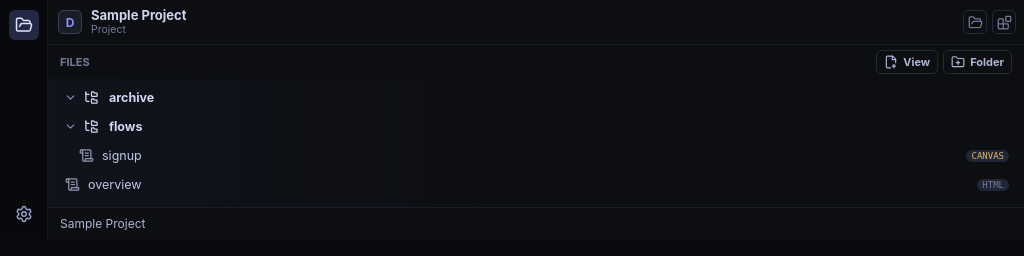
Test: Sidebar folder management › collapses and expands a folder
The image size is (1024, 256).
Click the button named "Collapse flows".
click(70, 126)  # box left=63, top=116, right=77, bottom=136
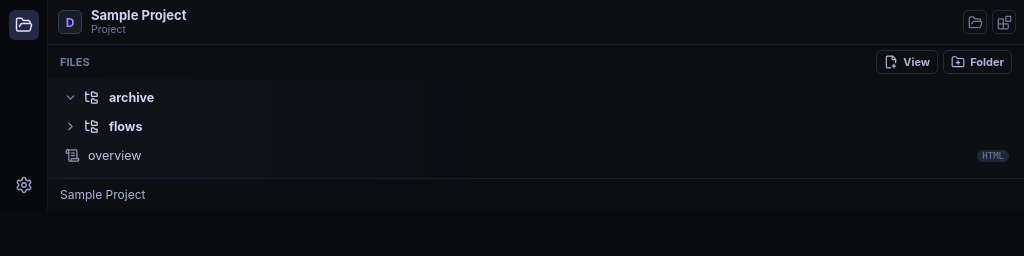
Now the text "signup" is gone
Click the button named "Expand flows".
click(70, 126)  # box left=63, top=116, right=77, bottom=136
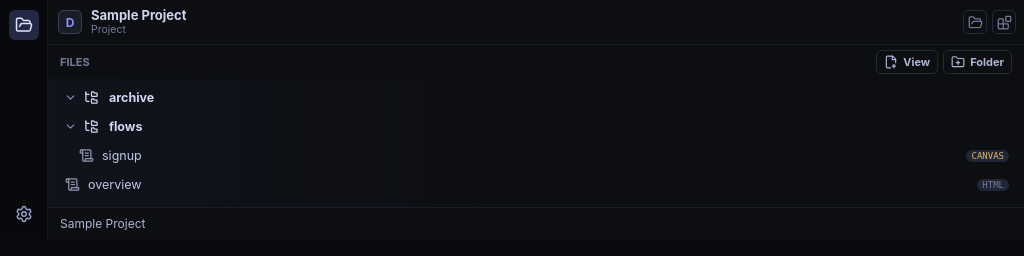
Now the text "signup" is shown, box left=102, top=148, right=142, bottom=163
